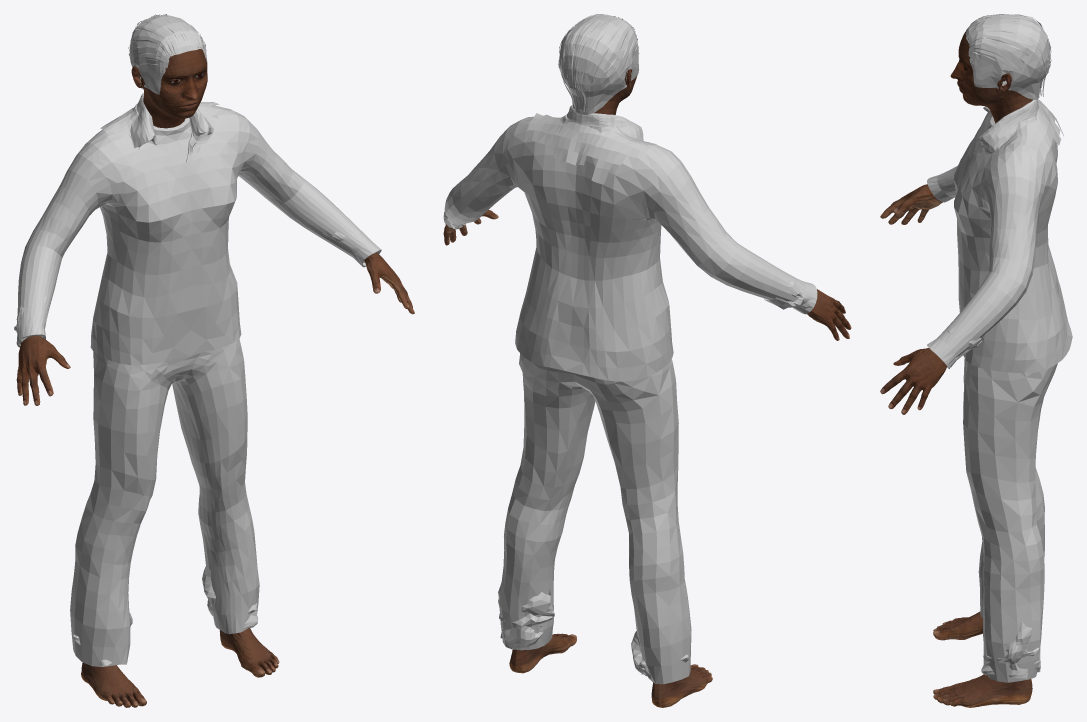
Rendered from human_02_standing.obj.
3 views of the same model, side by side, from view 1: azimuth 30°, elevation 25°; view 2: azimuth 150°, elevation 25°; view 3: azimuth 270°, elevation 25° (orthographic). The views are drawn at different scales.
Visible parts, largest first — view 1: male_casualsuit02.obj, base.obj, male_casualsuit01.obj, short04.obj; view 2: male_casualsuit02.obj, male_casualsuit01.obj, short04.obj, base.obj; view 3: male_casualsuit02.obj, base.obj, short04.obj, male_casualsuit01.obj.
Part boxes in pixels (x1,y1,x2,y2): male_casualsuit02.obj: (16, 103, 381, 666); base.obj: (16, 47, 414, 707); male_casualsuit01.obj: (14, 93, 377, 665); short04.obj: (128, 14, 207, 94); male_casualsuit02.obj: (443, 114, 817, 684); male_casualsuit01.obj: (444, 105, 817, 679); short04.obj: (558, 14, 638, 114); base.obj: (443, 69, 851, 707); male_casualsuit02.obj: (927, 111, 1072, 682); base.obj: (880, 31, 1032, 707); short04.obj: (965, 14, 1051, 99); male_casualsuit01.obj: (947, 99, 1063, 678).
Size of the model in its own units: 10.52 by 16.69 by 4.48.
